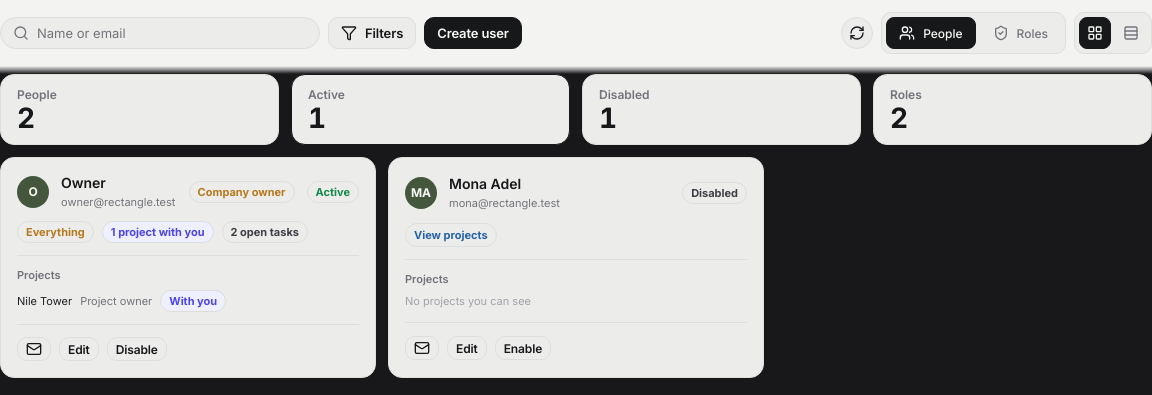
Test: TeamPage › filters people by search term
This screenshot has width=1152, height=395.
Expected: the text "Mona Adel" is shown, [449,175,521,192]
Type "mona" into the field named "Search people" at (172, 33), box [37,25,307,41]
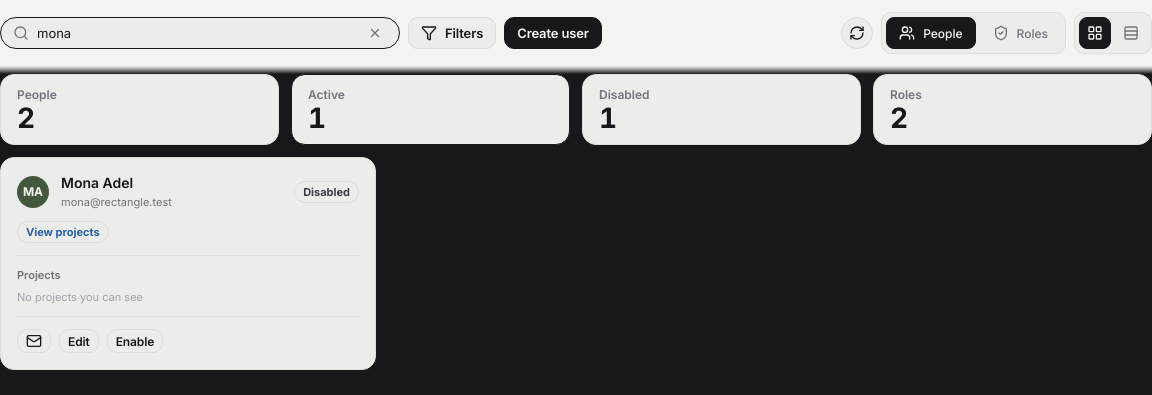
Expected: the text "Mona Adel" is shown, [61,174,133,191]
Now the text "owner@rectangle.test" is gone
